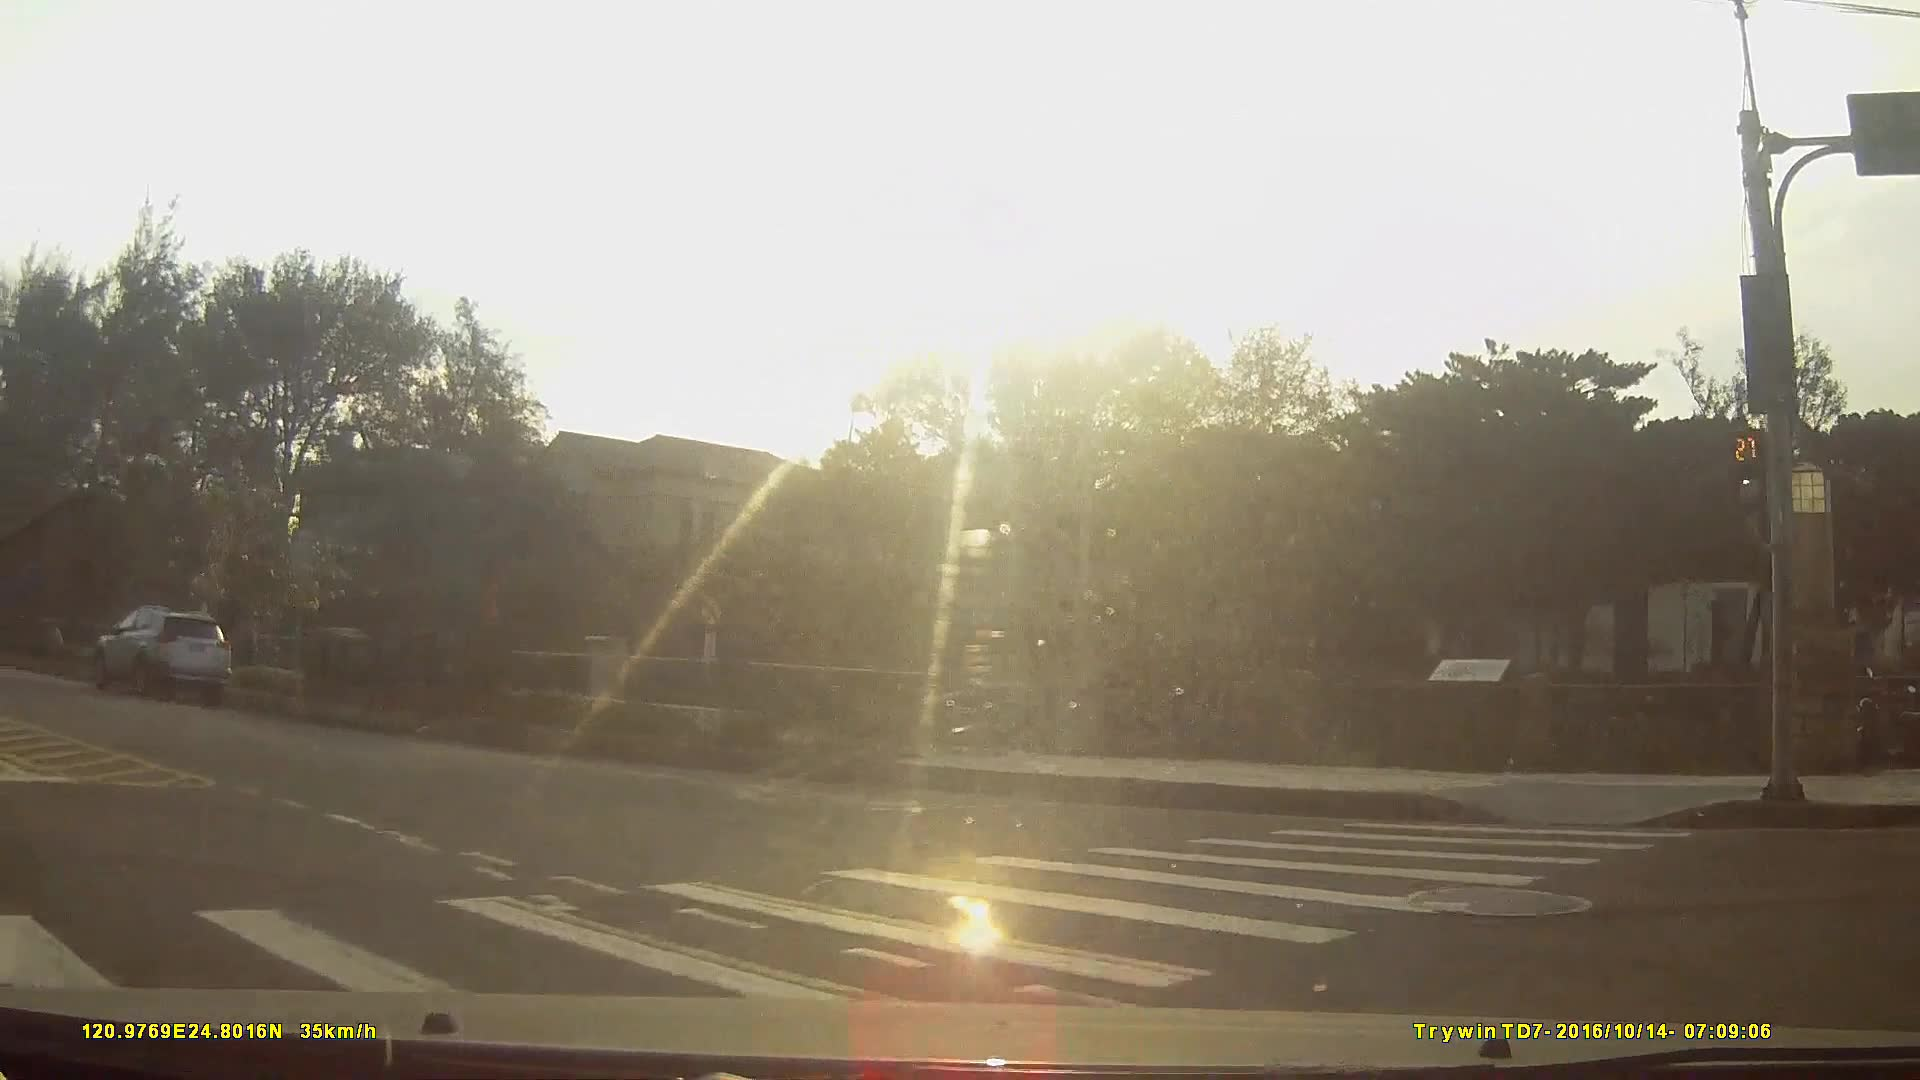vehicle: (92, 603, 229, 700)
